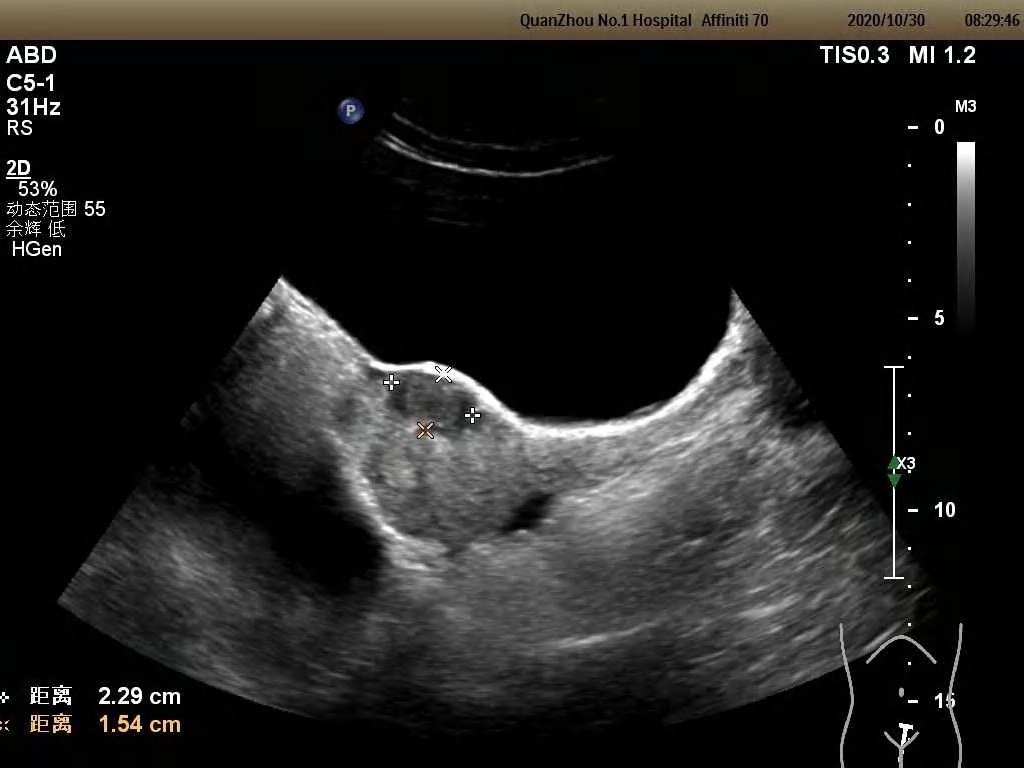肌瘤: (390, 371, 474, 432)
